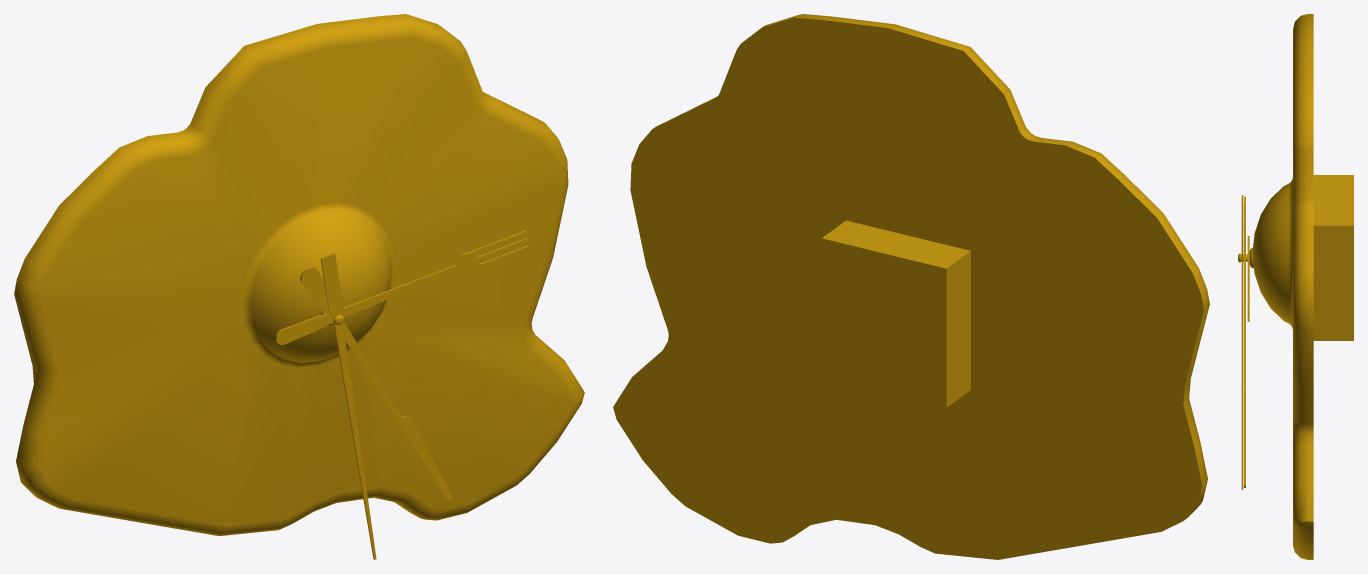
The model's file is Clock_1.fbx.
The picture shows the model from 3 angles, left to right: view 1: azimuth 30°, elevation 25°; view 2: azimuth 150°, elevation 25°; view 3: azimuth 270°, elevation 25°; orthographic projection. The views are drawn at different scales.
Parts seen in each view (by area): view 1: Clock_1; view 2: Clock_1; view 3: Clock_1.
Boxes of the visible parts, x1,y1,x2,y2 form: Clock_1: (14,14,584,559); Clock_1: (613,14,1209,559); Clock_1: (1238,14,1353,559).
Size of the model in its own units: 27.56 by 24.25 by 5.64.
